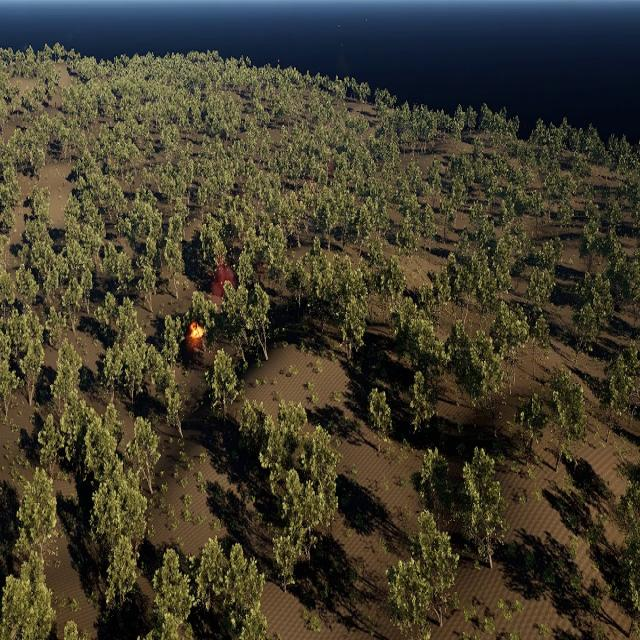fire: (190, 323, 202, 340)
smoke: (210, 263, 233, 308)
